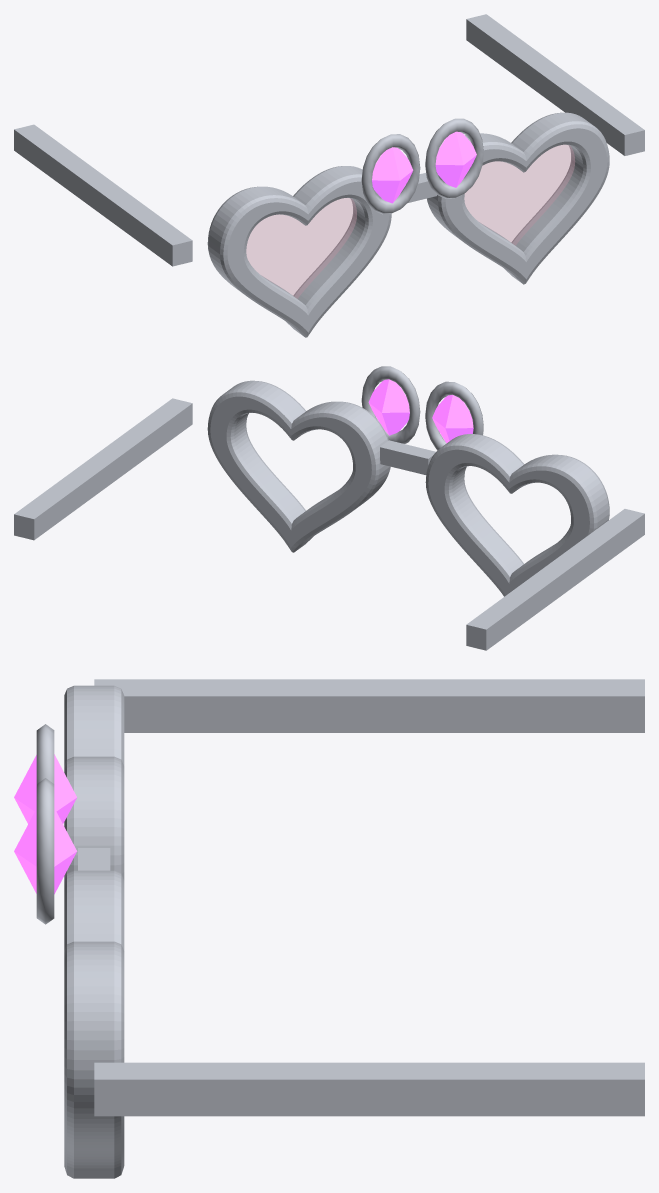
Rendered from gl_eqmo2.glb.
The picture shows the model from 3 angles, top to bottom: view 1: azimuth 30°, elevation 25°; view 2: azimuth 150°, elevation 25°; view 3: azimuth 270°, elevation 25°; orthographic projection. The views are drawn at different scales.
Size of the model in its own units: 1.8 by 0.6948 by 1.2.
